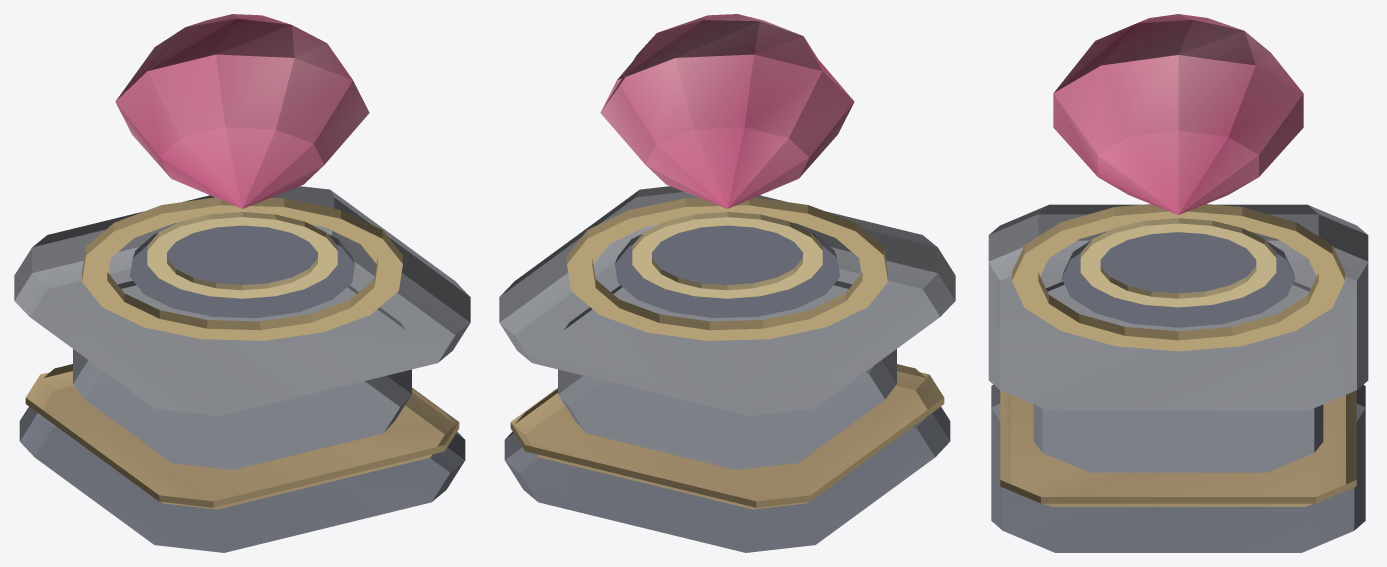
File: ruby_pedestal_floating.glb
3 renders of one model, left to right at view 1: azimuth 30°, elevation 25°; view 2: azimuth 150°, elevation 25°; view 3: azimuth 270°, elevation 25°, orthographic. The views are drawn at different scales.
Visible parts, largest first — view 1: Stone_Upper_Crown, RubyCrystal, Stone_Base, Gold_Base_Trim, Stone_Shaft, Gold_Accent_Ring, Rune_Core, Golden_Hover_Ring; view 2: Stone_Upper_Crown, RubyCrystal, Stone_Base, Gold_Base_Trim, Stone_Shaft, Gold_Accent_Ring, Rune_Core, Golden_Hover_Ring; view 3: Stone_Upper_Crown, RubyCrystal, Stone_Base, Gold_Base_Trim, Stone_Shaft, Gold_Accent_Ring, Rune_Core, Golden_Hover_Ring.
Boxes of the visible parts, x1,y1,x2,y2 form: Stone_Upper_Crown: (14, 186, 470, 415); RubyCrystal: (115, 14, 369, 208); Stone_Base: (19, 406, 465, 552); Gold_Base_Trim: (25, 364, 459, 509); Stone_Shaft: (73, 280, 411, 469); Gold_Accent_Ring: (82, 197, 402, 340); Rune_Core: (130, 225, 354, 317); Golden_Hover_Ring: (147, 212, 337, 298); Stone_Upper_Crown: (499, 186, 955, 415); RubyCrystal: (600, 14, 854, 208); Stone_Base: (504, 406, 950, 552); Gold_Base_Trim: (510, 364, 944, 509); Stone_Shaft: (558, 280, 896, 469); Gold_Accent_Ring: (567, 197, 887, 340); Rune_Core: (615, 225, 839, 317); Golden_Hover_Ring: (632, 212, 822, 298); Stone_Upper_Crown: (988, 204, 1368, 410); RubyCrystal: (1053, 14, 1303, 214); Stone_Base: (991, 384, 1365, 552); Gold_Base_Trim: (1000, 390, 1356, 506); Stone_Shaft: (1033, 281, 1323, 472); Gold_Accent_Ring: (1012, 204, 1344, 351); Rune_Core: (1061, 232, 1295, 327); Golden_Hover_Ring: (1080, 218, 1276, 307).
Size of the model in its own units: 1.33 by 1.7 by 1.33.
